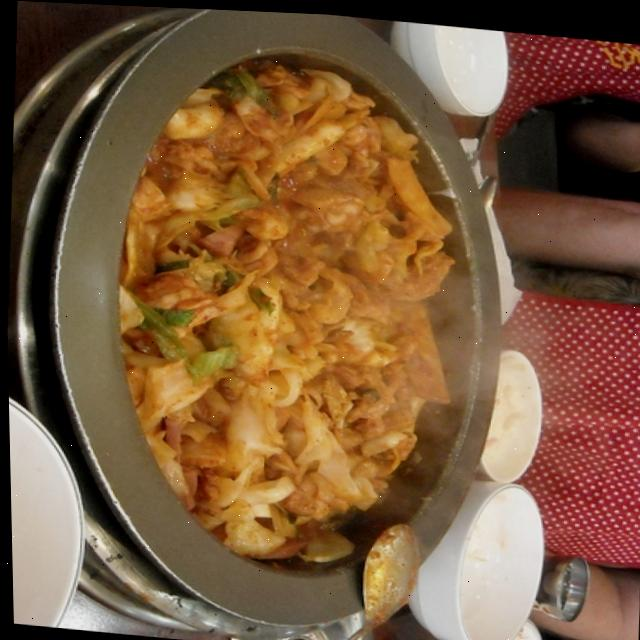鸡肉料理 含炸鸡: (1, 0, 530, 640)
